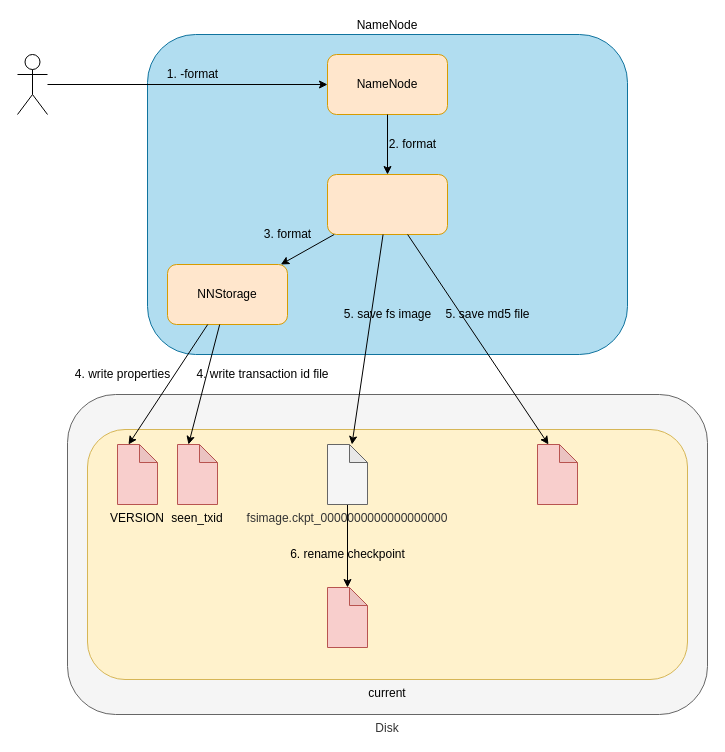
Some shapes in this 725 by 752 pixel diagram are drawn without their labels. Each missing label, with the centre of its shape:
"FSImage" goes at (387,204).
"fsimage_0000000000000000000" goes at (347,617).
"fsimage_0000000000000000000.md5" goes at (557,474).
"User" goes at (32,84).
